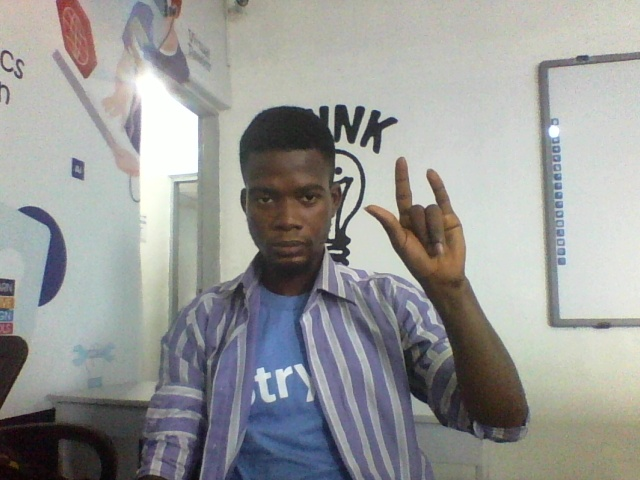i_love_you: (358, 155, 477, 289)
